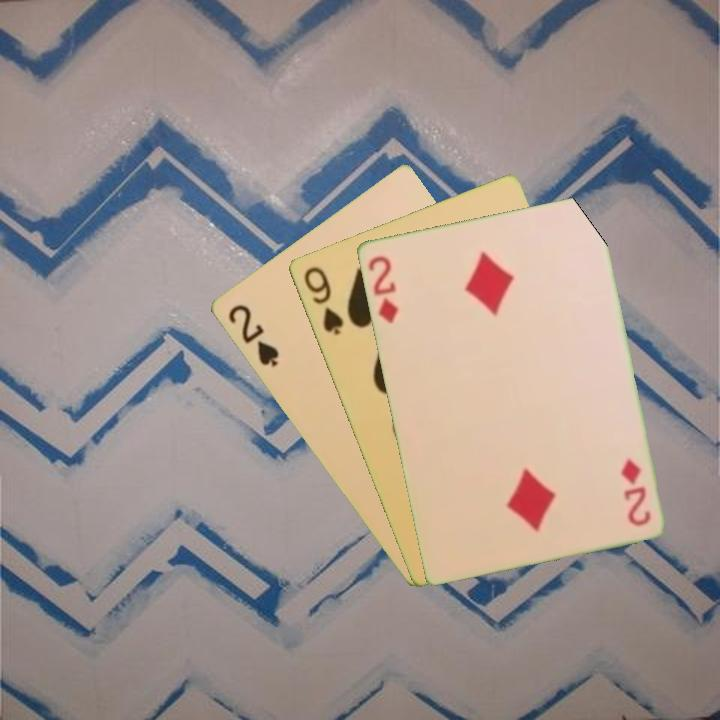2d: (364, 251, 401, 326), (617, 454, 653, 529)
2s: (223, 300, 282, 370)
9s: (299, 263, 346, 338)
